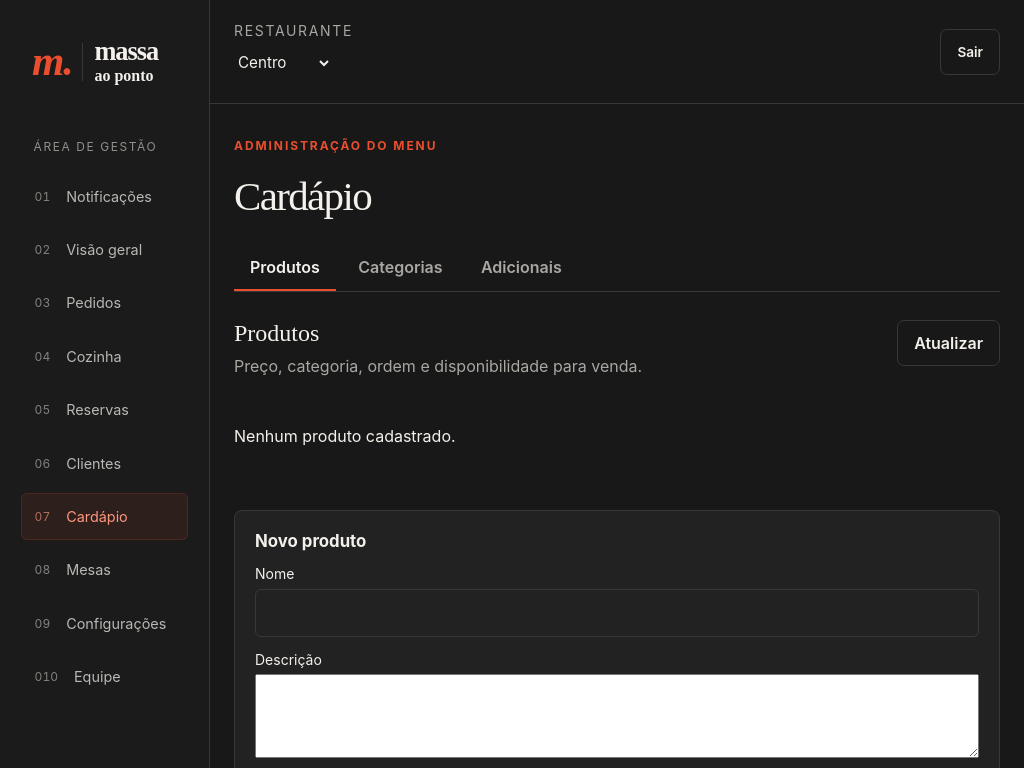
Test case: Catalog UI › shows all three empty states
Expected: the text "Nenhum produto cadastrado." is shown, [234, 426, 456, 446]
Step 1. Click the button "Categorias" → click(400, 268), box [342, 244, 459, 291]
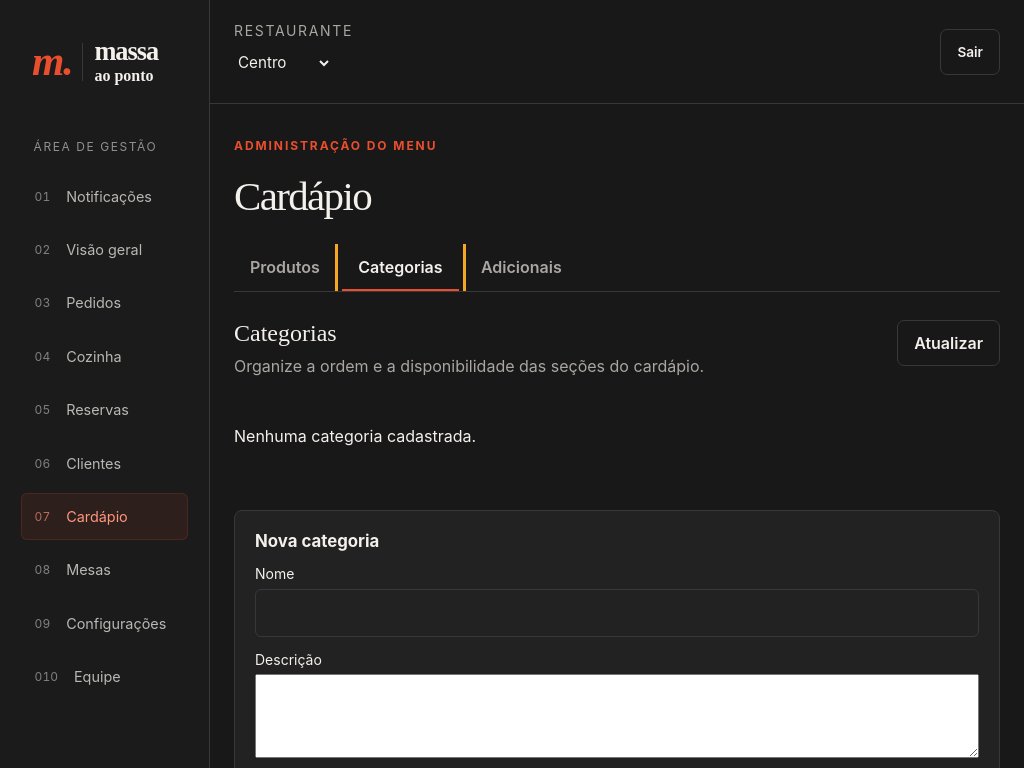
Expected: the text "Nenhuma categoria cadastrada." is shown, [234, 426, 476, 446]
Step 2. Click the button "Adicionais" → click(521, 268), box [465, 244, 578, 291]
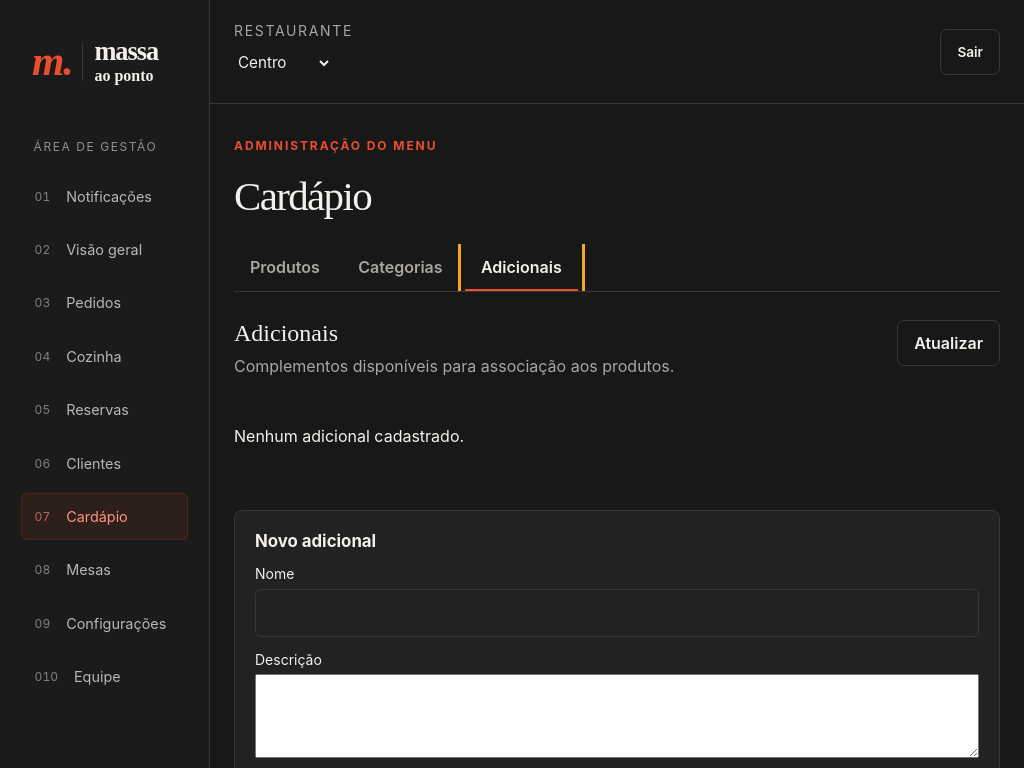
Expected: the text "Nenhum adicional cadastrado." is shown, [234, 426, 464, 446]
